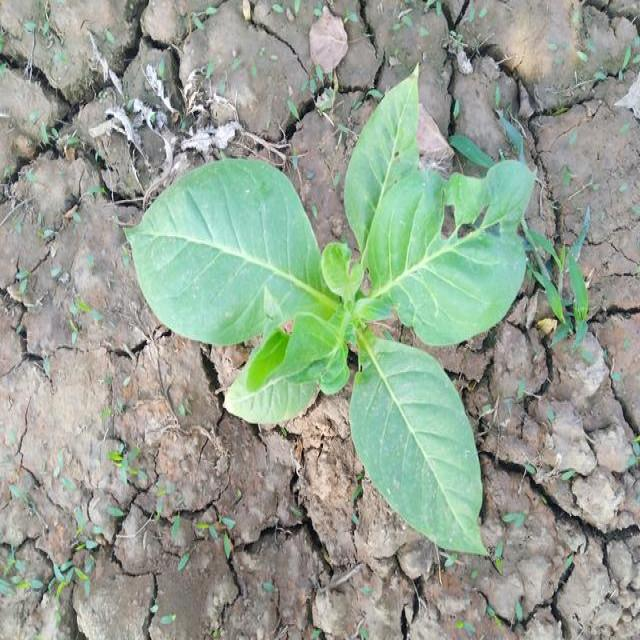crop: (125, 96, 532, 555)
